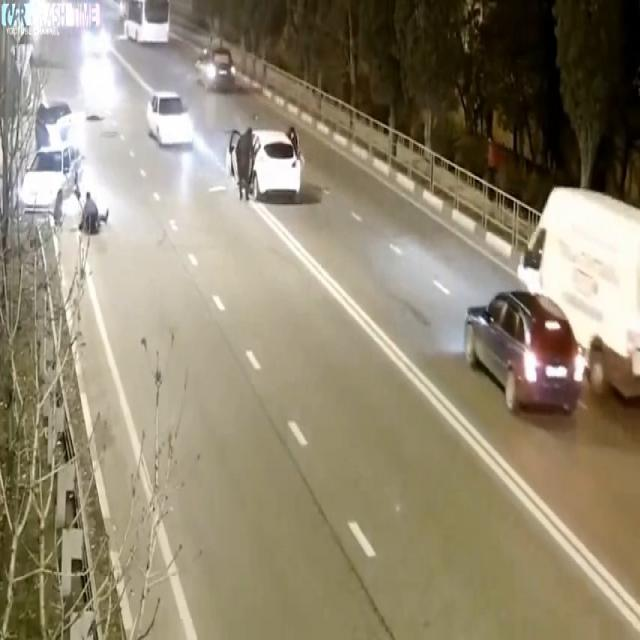Accident: (14, 100, 102, 244)
